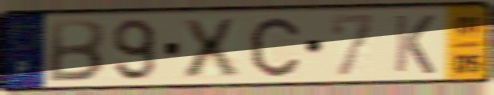7: (330, 12, 375, 79)
9: (110, 17, 159, 83)
B: (45, 17, 108, 84)
C: (248, 15, 303, 79)
K: (392, 12, 438, 76)
X: (178, 16, 242, 81)
